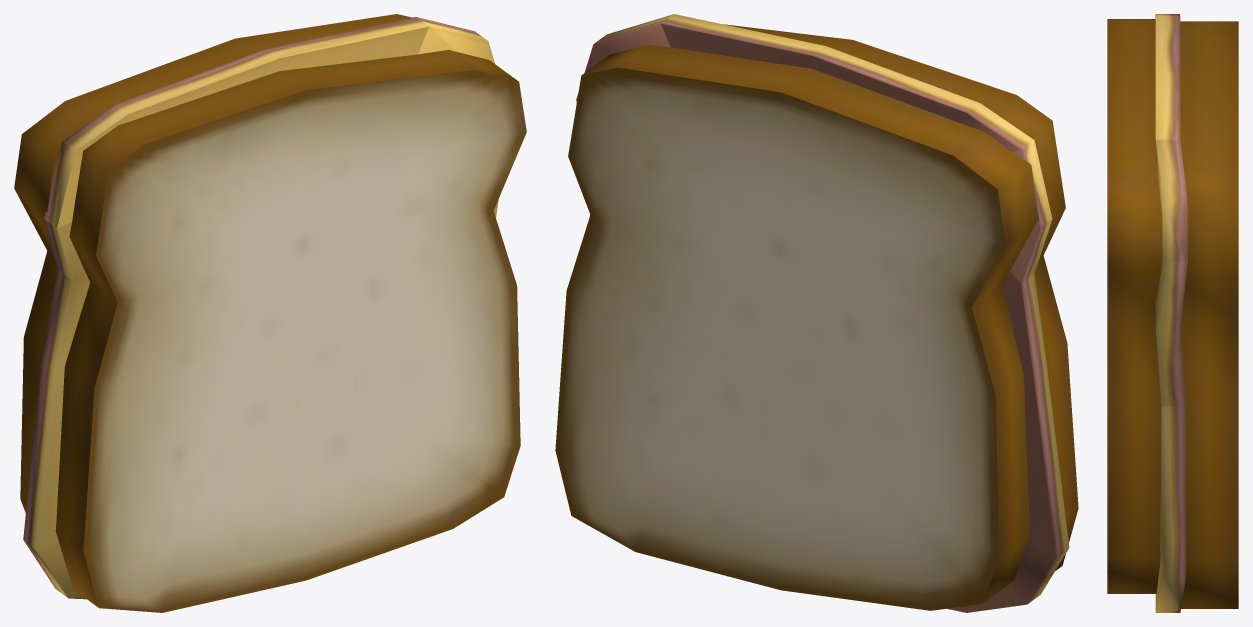
The model's file is picnic_sandwich.glb.
The picture shows the model from 3 angles, left to right: view 1: azimuth 30°, elevation 25°; view 2: azimuth 150°, elevation 25°; view 3: azimuth 270°, elevation 25°; orthographic projection. The views are drawn at different scales.
Visible parts, largest first — view 1: bread_top1, peanut_jelly, bread_bottom; view 2: bread_bottom, peanut_jelly, bread_top1; view 3: bread_bottom, bread_top1, peanut_jelly.
Boxes of the visible parts, left/top/right/bottom form: bread_top1: left=55, top=50, right=526, bottom=612; peanut_jelly: left=23, top=17, right=498, bottom=599; bread_bottom: left=14, top=14, right=411, bottom=513; bread_bottom: left=555, top=45, right=1039, bottom=610; peanut_jelly: left=576, top=14, right=1069, bottom=612; bread_top1: left=724, top=24, right=1078, bottom=570; bread_bottom: left=1180, top=21, right=1238, bottom=608; bread_top1: left=1107, top=19, right=1162, bottom=593; peanut_jelly: left=1155, top=14, right=1187, bottom=612.
Bounding box in the file's own units: 0.5383 × 0.5563 × 0.1387.
Materials: 2 (2 with a texture image).
